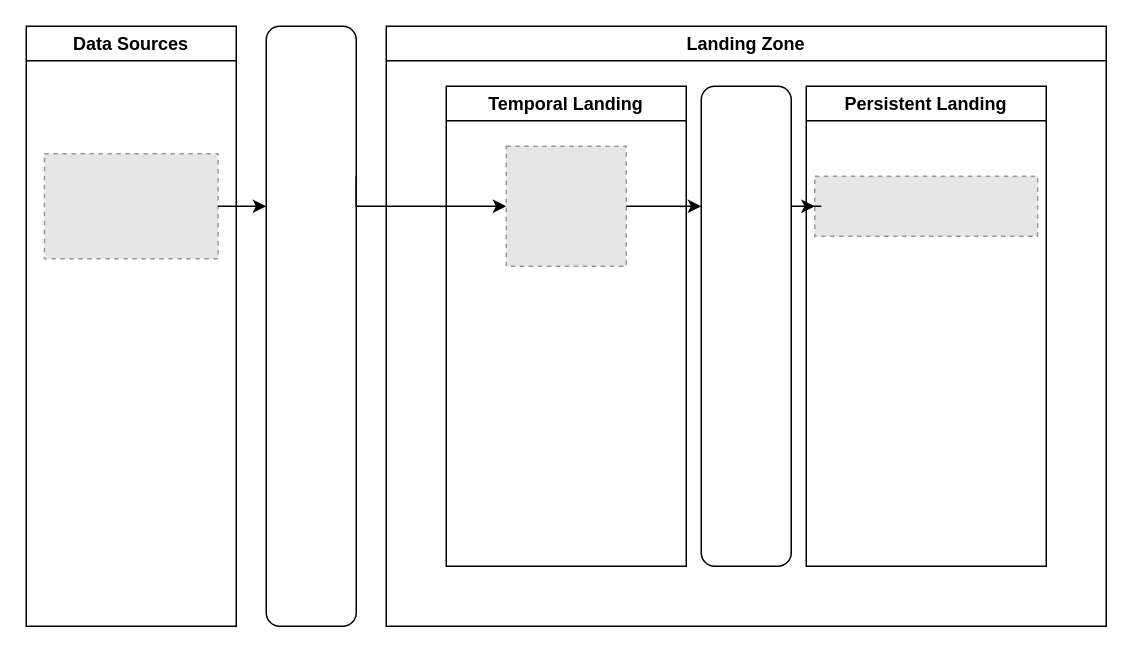
Some shapes in this 1133 by 653 pixel diagram are drawn without their labels. Grey dashed boxes stand in for pictures. Each missing label, with the box of its shape:
Data Collectors: (265, 25, 356, 626)
Data Persistence Loader: (700, 85, 791, 566)
